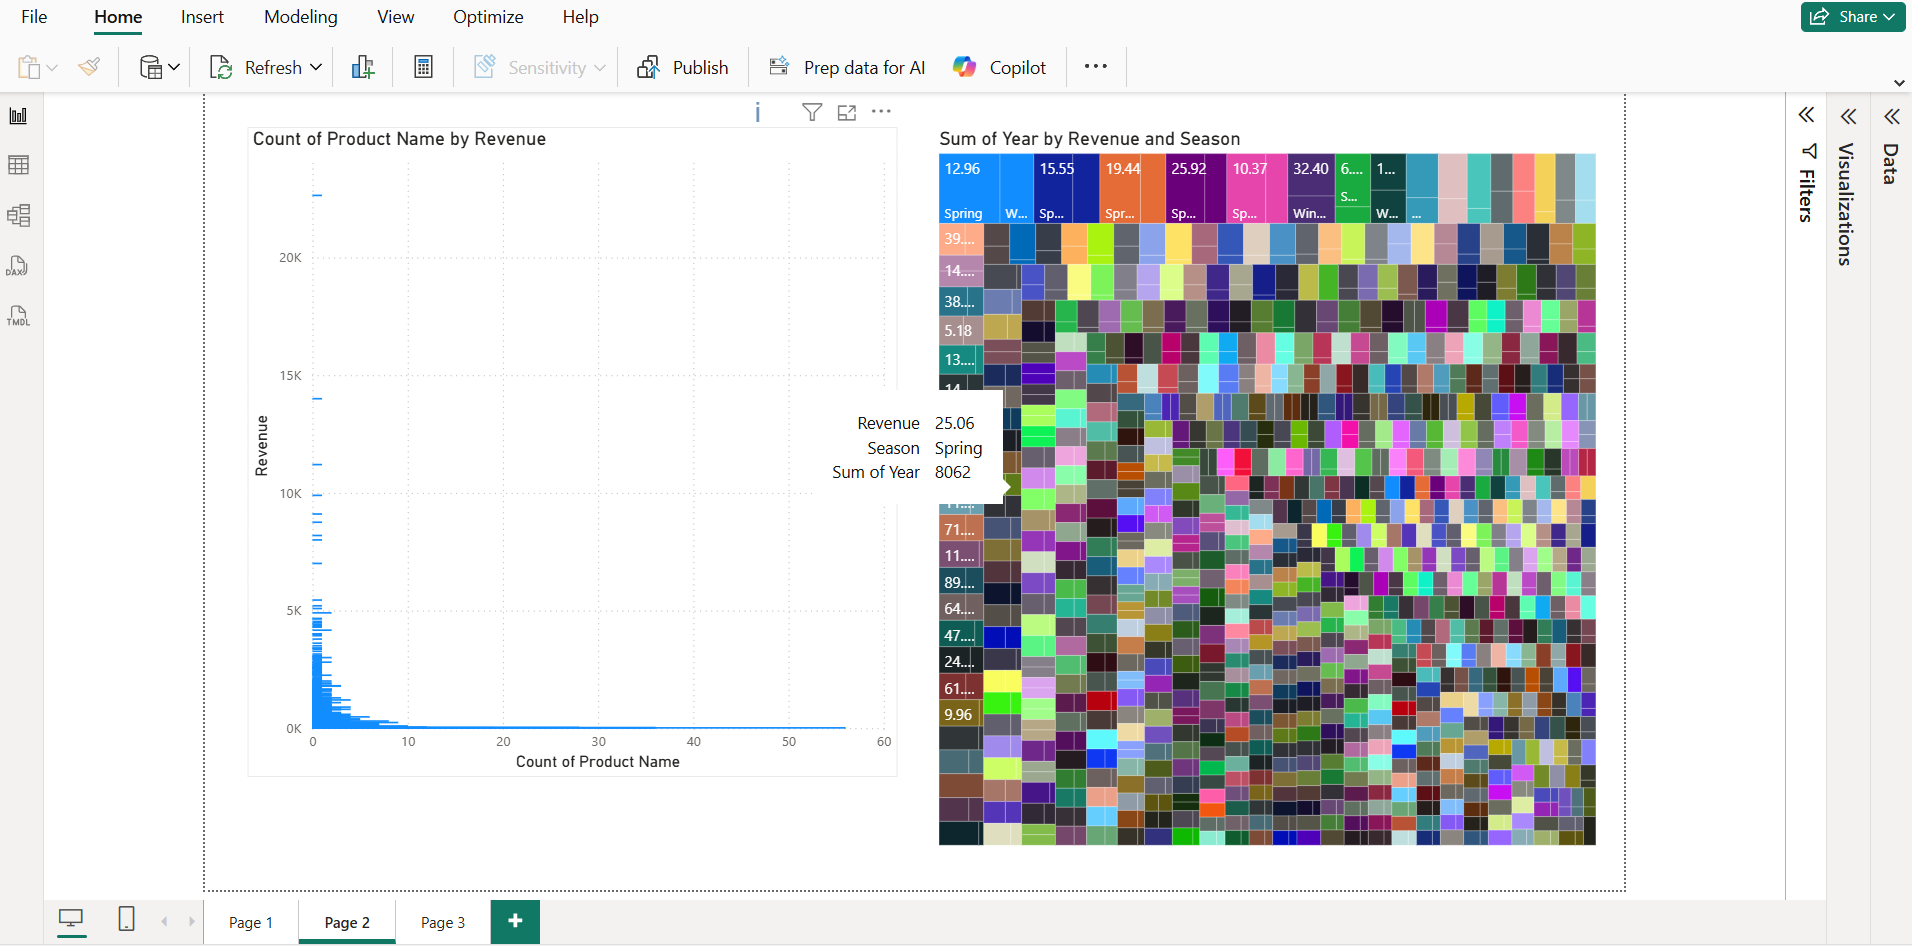

Layout of this report page (visuals, bound fields, positions):
{"tool":"powerbi","page":{"name":"Page 2","canvas":[1280,720],"ordinal":1},"visuals":[{"type":"barChart","fields":{"Y":["CountNonNull(cleaned_sales_data.Product Name)"],"Category":["cleaned_sales_data.Revenue"]},"box":[38.7,31.2,585.9,585.9],"z":0},{"type":"treemap","fields":{"Group":["cleaned_sales_data.Revenue"],"Values":["Sum(cleaned_sales_data.Year)"],"Details":["cleaned_sales_data.Season"]},"box":[657.3,31.2,602.2,652.8],"z":1000}]}

Visuals, with their boxes on the page's 1280x720 design canvas (x1, y1, x2, y2). These are canvas units, not pixel positions in the 1912x946 screenshot, which may show the page scaled, cropped or inside an application window:
barChart - CountNonNull(cleaned_sales_data.Product Name) x cleaned_sales_data.Revenue: (39, 31, 625, 617)
treemap - cleaned_sales_data.Revenue x Sum(cleaned_sales_data.Year): (657, 31, 1260, 684)
